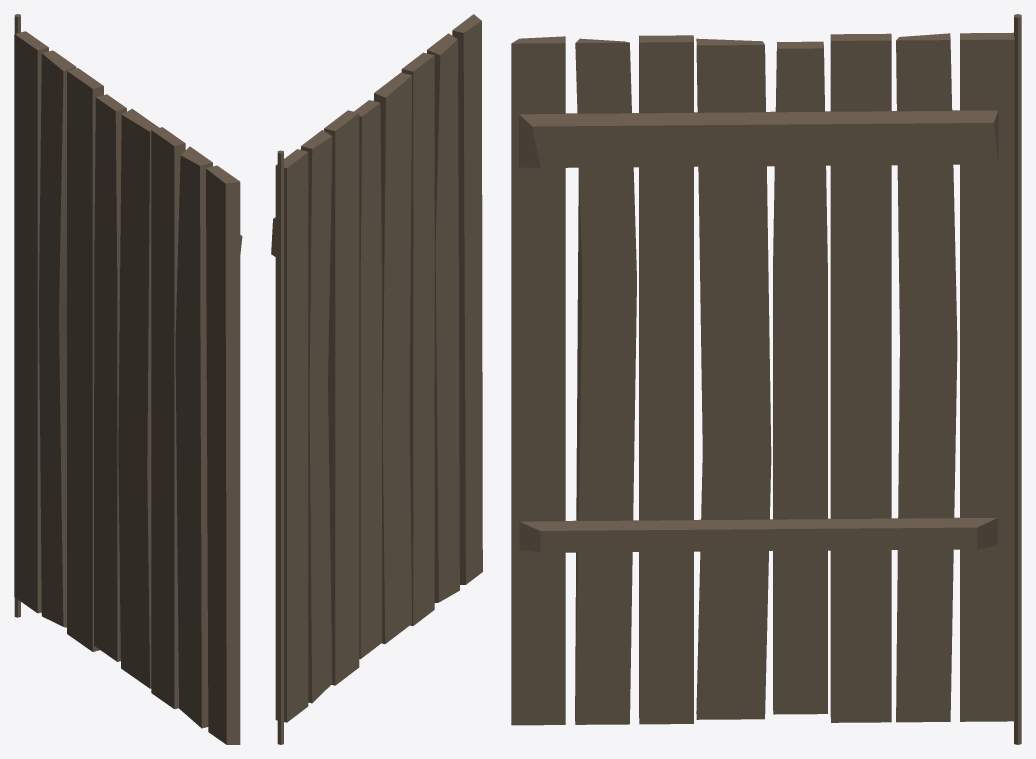
3 renders of one model, left to right at view 1: azimuth 30°, elevation 25°; view 2: azimuth 150°, elevation 25°; view 3: azimuth 270°, elevation 25°, orthographic. The views are drawn at different scales.
Visible parts, largest first — view 1: 破烂木门; view 2: 破烂木门; view 3: 破烂木门.
Boxes of the visible parts, x1,y1,x2,y2 form: 破烂木门: (14,14,242,744); 破烂木门: (271,14,482,744); 破烂木门: (511,14,1021,744).
Size of the model in its own units: 14.04 by 279 by 177.
